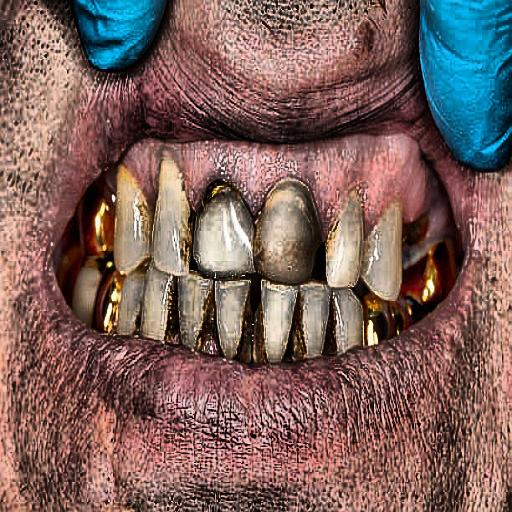Calculus: (77, 122, 456, 402)
